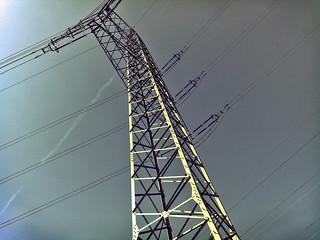power_tower: (41, 0, 240, 240)
